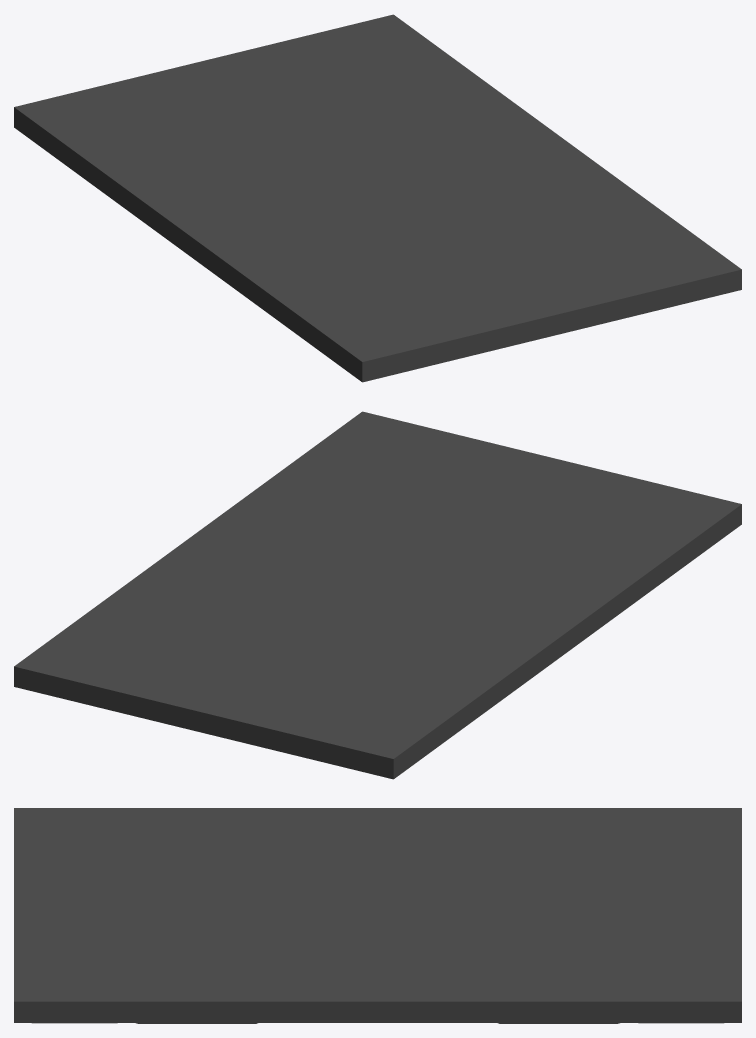
File: panel.fbx
3 renders of one model, top to bottom at view 1: azimuth 30°, elevation 25°; view 2: azimuth 150°, elevation 25°; view 3: azimuth 270°, elevation 25°, orthographic. The views are drawn at different scales.
Visible parts, largest first — view 1: Panel; view 2: Panel; view 3: Panel.
Part boxes in pixels (x1,y1,x2,y2): Panel: [14, 14, 741, 382]; Panel: [14, 411, 741, 779]; Panel: [14, 808, 741, 1023].
Size of the model in its own units: 3900 by 292 by 6200.
